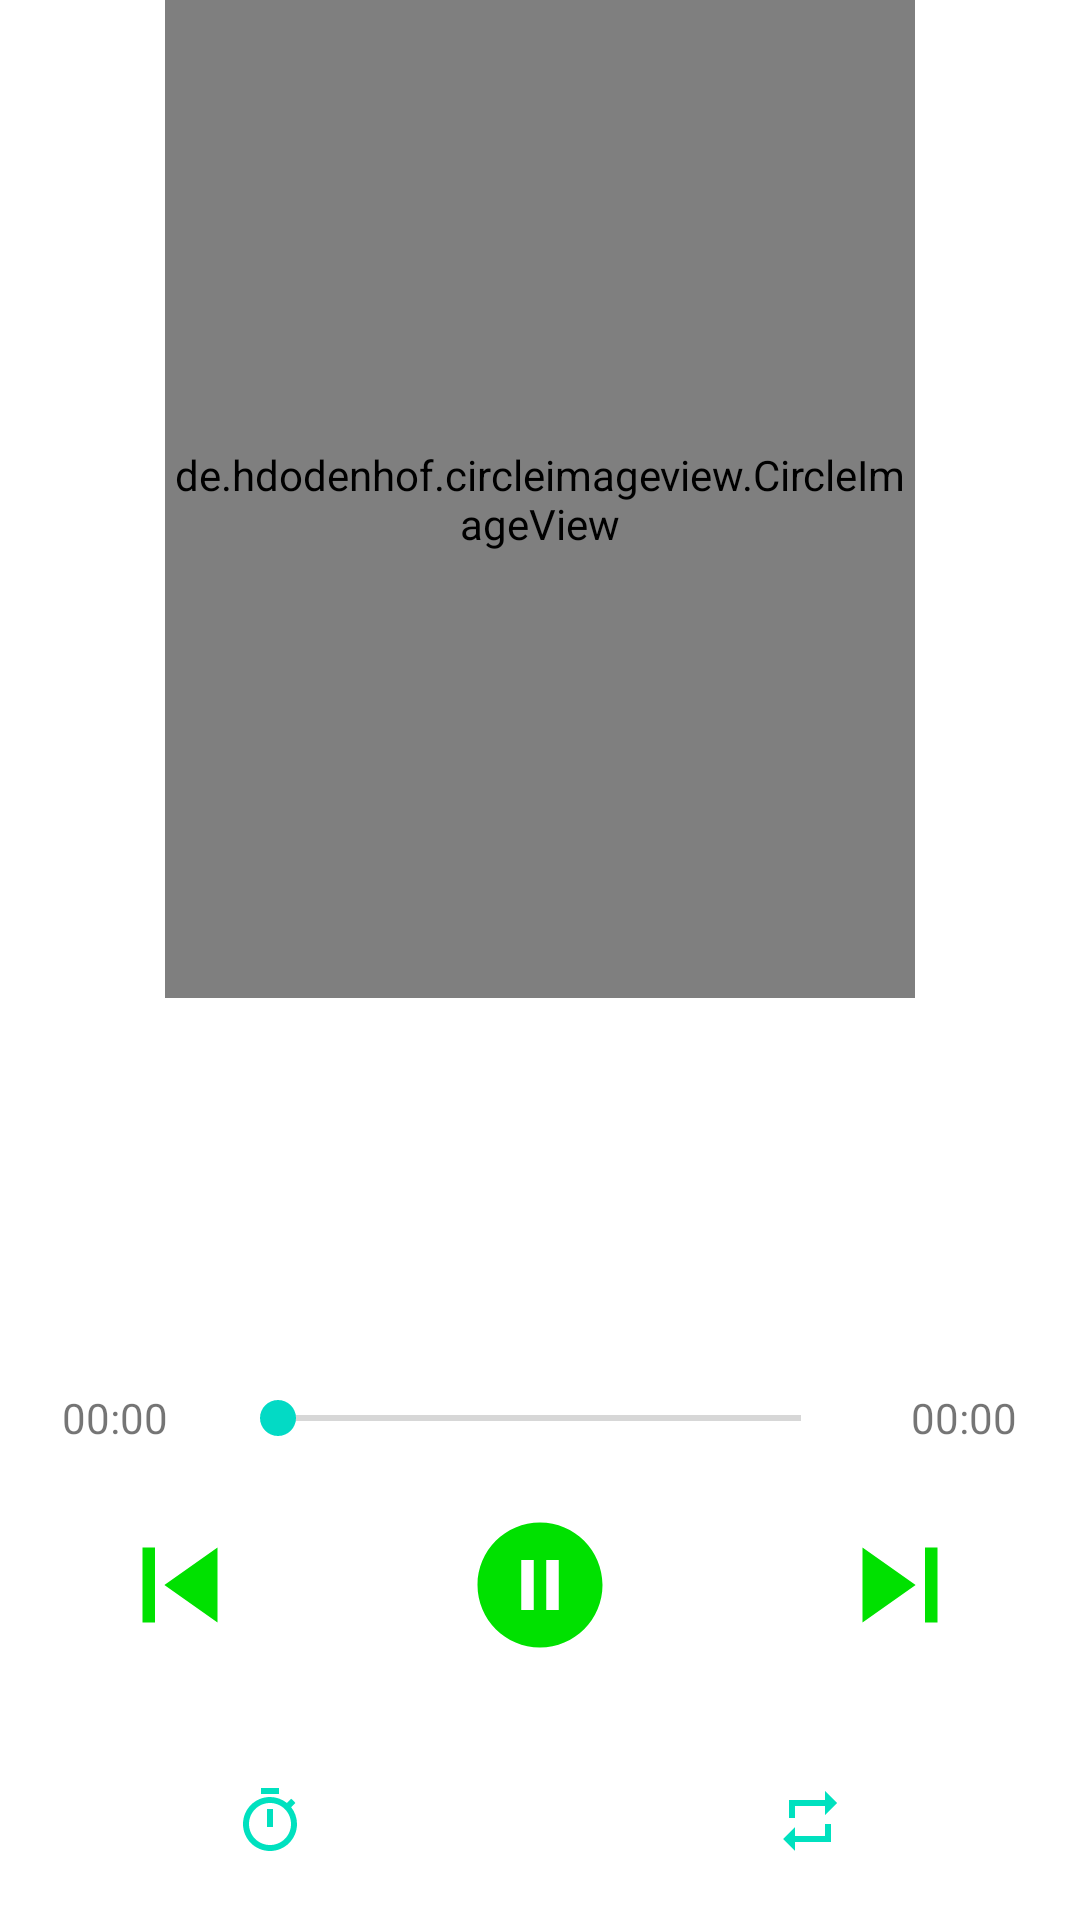

Locate icon controls on the screen. Image size 1080w x 1920h, boxes as (x1, y1, x2, y2).
pause circle: (477, 1522, 603, 1648)
repeat: (783, 1791, 837, 1851)
skip next: (862, 1547, 938, 1623)
skip previous: (142, 1547, 218, 1623)
timer: (243, 1788, 297, 1851)
